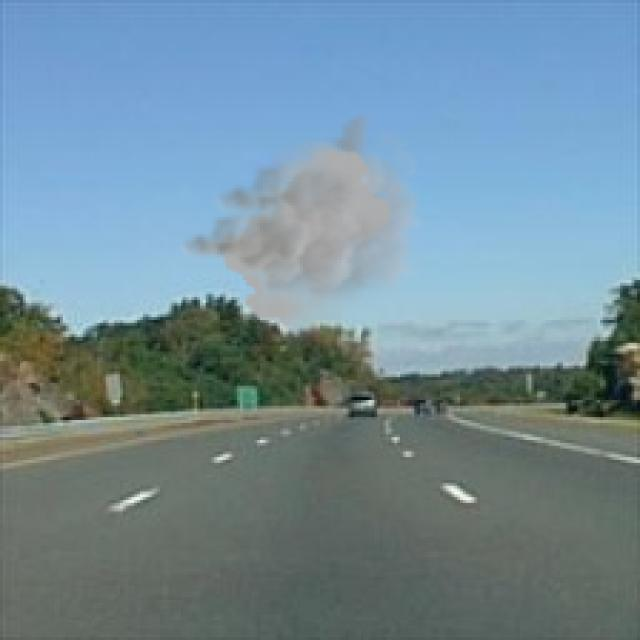smoke: (174, 111, 426, 332)
